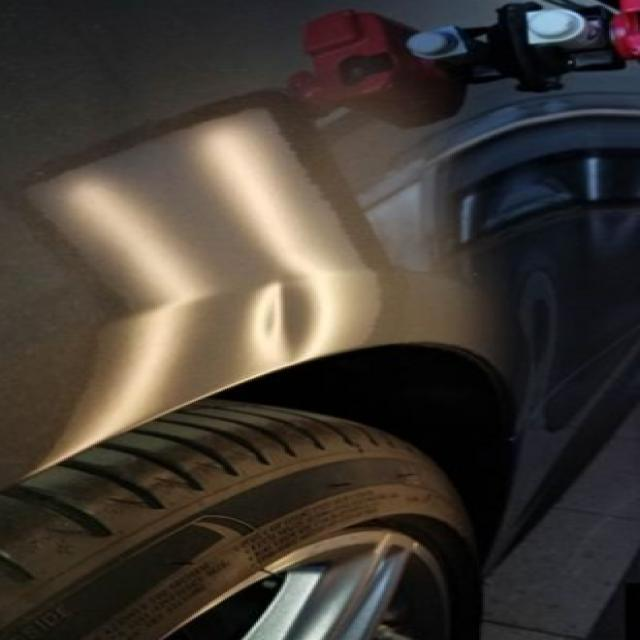dents: (214, 271, 344, 362)
